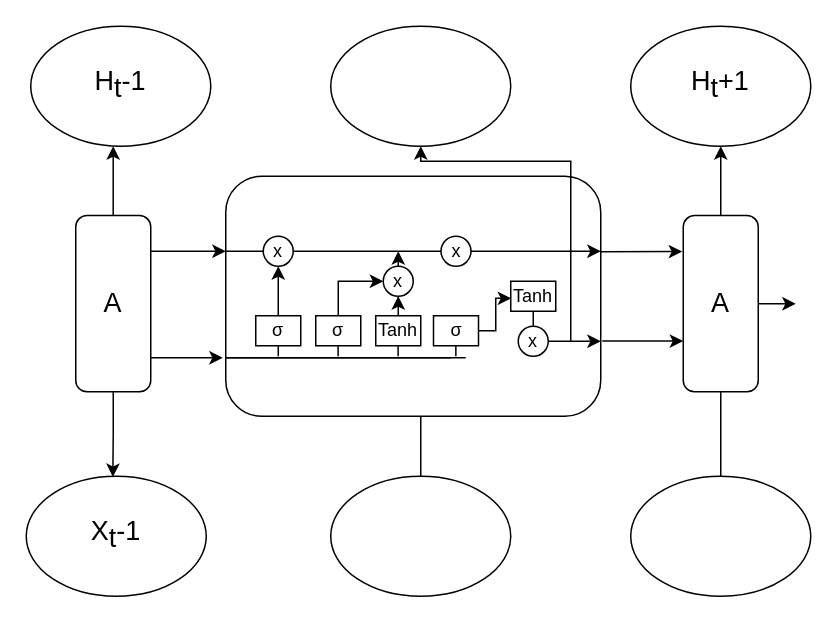
The diagram is 837 pixels wide and 623 high, and some of its shapes have lost their labels. The box of each missing label's shape, as (x1, y1, x2, y2) in pixels:
H t: (329, 25, 511, 146)
X t: (329, 475, 511, 596)
X t +1: (629, 475, 811, 596)
